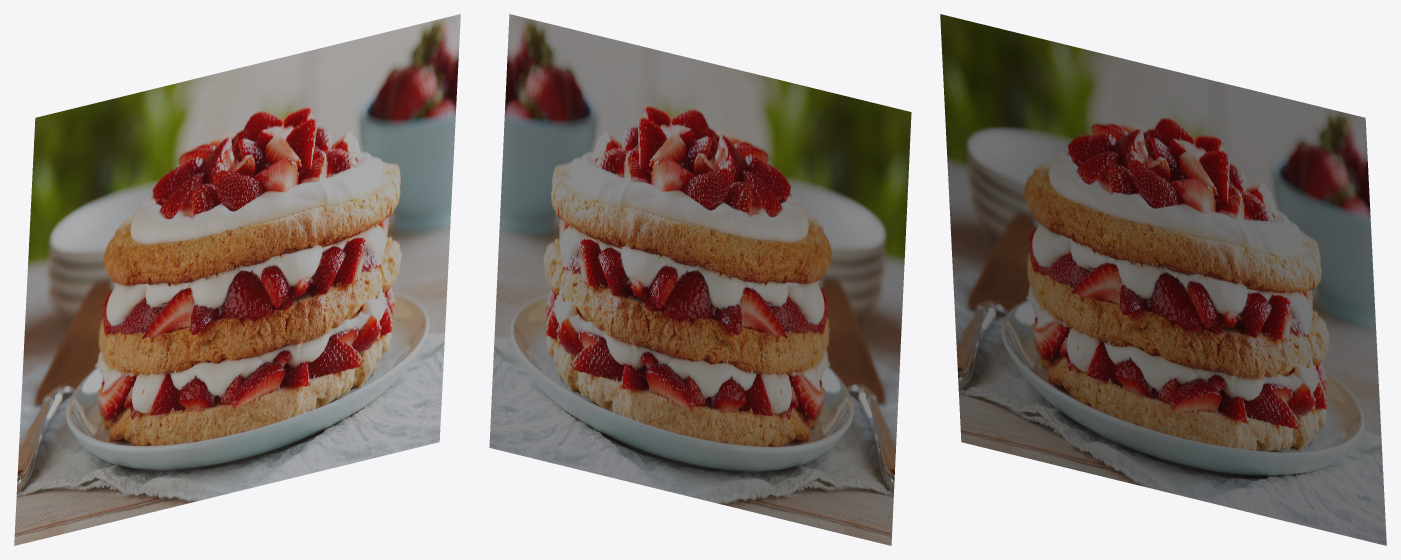
Rendered from strbry.obj.
The picture shows the model from 3 angles, left to right: view 1: azimuth 30°, elevation 25°; view 2: azimuth 150°, elevation 25°; view 3: azimuth 330°, elevation 25°; orthographic projection. The views are drawn at different scales.
Parts seen in each view (by area): view 1: strawbryscake; view 2: strawbryscake; view 3: strawbryscake.
Boxes of the visible parts, x1,y1,x2,y2 form: strawbryscake: [14, 14, 460, 545]; strawbryscake: [489, 14, 911, 545]; strawbryscake: [940, 14, 1386, 545].
Bounding box in the file's own units: 10.17 × 10.13 × 0.8756.
Materials: 1 (1 with a texture image).
